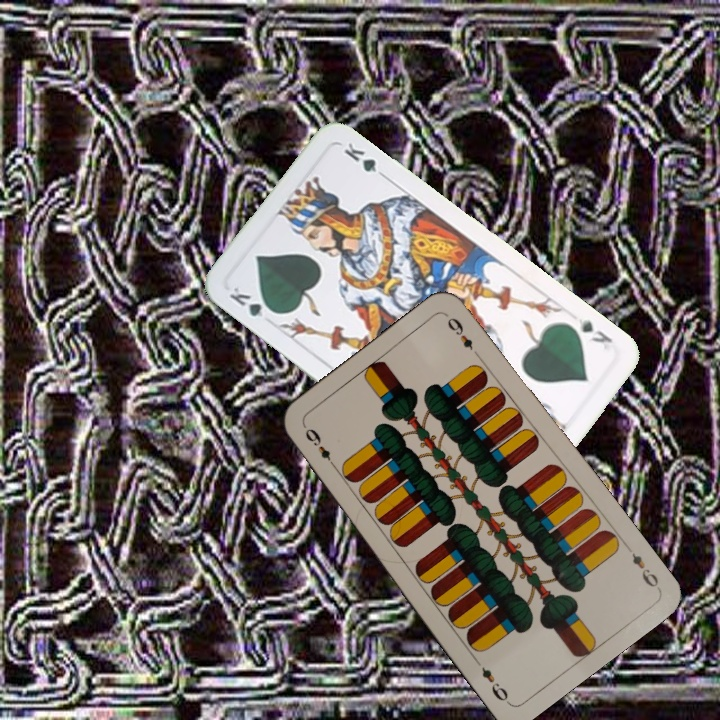E9: (299, 421, 340, 472), (627, 548, 662, 590)
GK: (225, 282, 280, 320), (572, 314, 616, 346)
